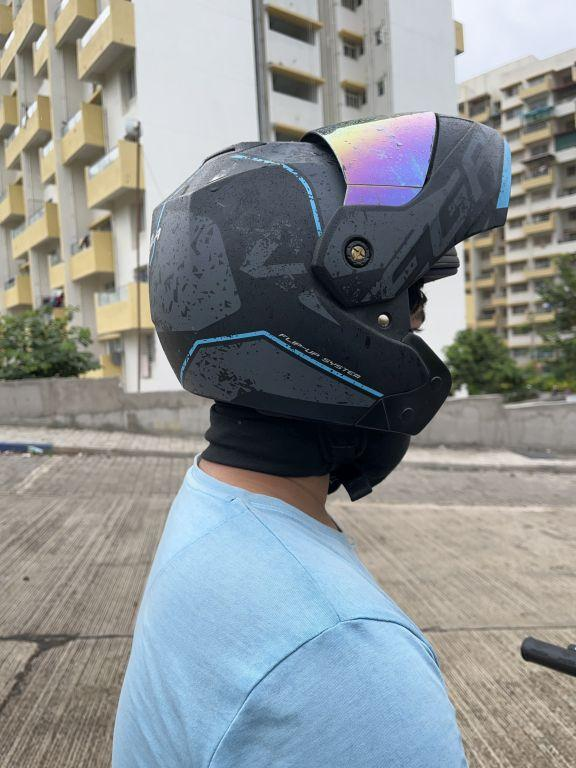helmet: (139, 97, 521, 513)
